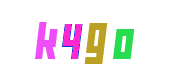4: (44, 0, 124, 80)
G: (56, 0, 136, 80)
K: (17, 0, 97, 80)
O: (79, 0, 159, 80)
